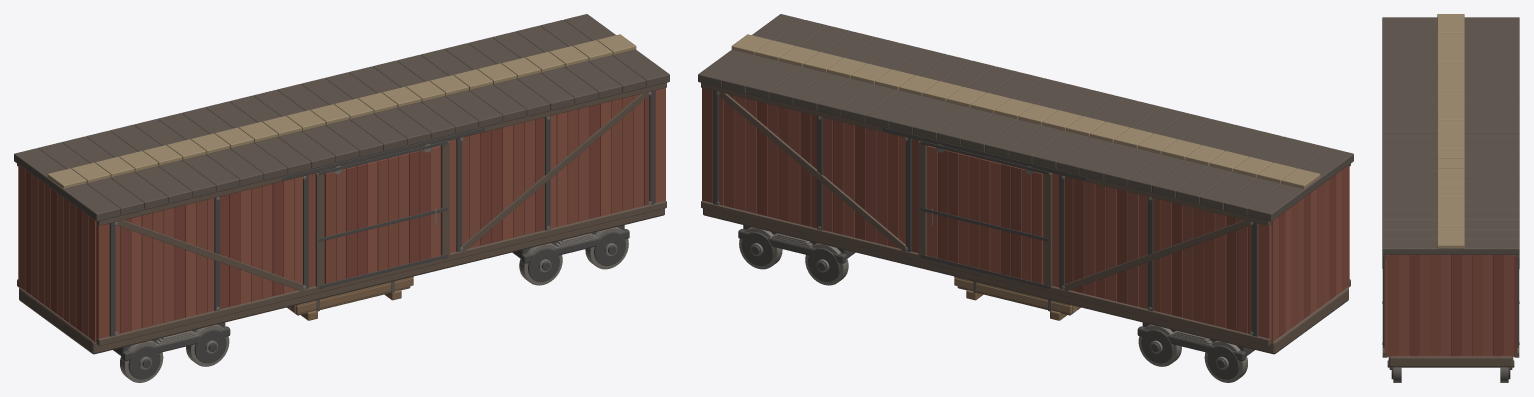
The model's file is frontier-freight.glb.
The picture shows the model from 3 angles, left to right: view 1: azimuth 30°, elevation 25°; view 2: azimuth 150°, elevation 25°; view 3: azimuth 270°, elevation 25°; orthographic projection. The views are drawn at different scales.
Visible parts, largest first — view 1: Perdition boxcar tarred canvas, Perdition boxcar oxide-painted oak 2, Perdition boxcar oxide-painted oak 0, Perdition boxcar oxide-painted oak 1, Perdition boxcar creosote oak, Perdition boxcar oxide-painted oak 3, Perdition boxcar weathered roofwalk oak, Perdition boxcar blackened iron, Perdition boxcar worn iron, Livery water-stained oak 0; view 2: Perdition boxcar tarred canvas, Perdition boxcar oxide-painted oak 2, Perdition boxcar creosote oak, Perdition boxcar oxide-painted oak 1, Perdition boxcar oxide-painted oak 0, Perdition boxcar oxide-painted oak 3, Perdition boxcar weathered roofwalk oak, Perdition boxcar blackened iron, Perdition boxcar worn iron, Livery water-stained oak 1; view 3: Perdition boxcar tarred canvas, Perdition boxcar weathered roofwalk oak, Perdition boxcar oxide-painted oak 1, Perdition boxcar oxide-painted oak 2, Perdition boxcar oxide-painted oak 0, Perdition boxcar oxide-painted oak 3, Perdition boxcar creosote oak, Perdition boxcar blackened iron, Perdition boxcar worn iron.
Boxes of the visible parts, x1,y1,x2,y2 form: Perdition boxcar tarred canvas: [14, 14, 669, 221]; Perdition boxcar oxide-painted oak 2: [25, 96, 649, 333]; Perdition boxcar oxide-painted oak 0: [38, 96, 633, 342]; Perdition boxcar oxide-painted oak 1: [18, 88, 665, 337]; Perdition boxcar creosote oak: [17, 82, 666, 354]; Perdition boxcar oxide-painted oak 3: [19, 94, 643, 336]; Perdition boxcar weathered roofwalk oak: [47, 34, 636, 188]; Perdition boxcar blackened iron: [110, 90, 654, 379]; Perdition boxcar worn iron: [114, 91, 651, 382]; Livery water-stained oak 0: [290, 278, 413, 320]; Perdition boxcar tarred canvas: [698, 14, 1353, 221]; Perdition boxcar oxide-painted oak 2: [702, 88, 1335, 337]; Perdition boxcar creosote oak: [701, 82, 1350, 354]; Perdition boxcar oxide-painted oak 1: [734, 96, 1342, 342]; Perdition boxcar oxide-painted oak 0: [724, 94, 1349, 336]; Perdition boxcar oxide-painted oak 3: [718, 96, 1329, 342]; Perdition boxcar weathered roofwalk oak: [731, 34, 1320, 188]; Perdition boxcar blackened iron: [713, 90, 1257, 379]; Perdition boxcar worn iron: [716, 91, 1260, 382]; Livery water-stained oak 1: [954, 278, 1077, 313]; Perdition boxcar tarred canvas: [1382, 17, 1519, 254]; Perdition boxcar weathered roofwalk oak: [1437, 14, 1464, 248]; Perdition boxcar oxide-painted oak 1: [1384, 255, 1492, 356]; Perdition boxcar oxide-painted oak 2: [1409, 255, 1517, 356]; Perdition boxcar oxide-painted oak 0: [1388, 255, 1482, 356]; Perdition boxcar oxide-painted oak 3: [1419, 255, 1513, 356]; Perdition boxcar creosote oak: [1382, 255, 1519, 367]; Perdition boxcar blackened iron: [1383, 258, 1518, 379]; Perdition boxcar worn iron: [1382, 266, 1519, 382].
Size of the model in its own units: 11.98 by 3.8 by 3.
